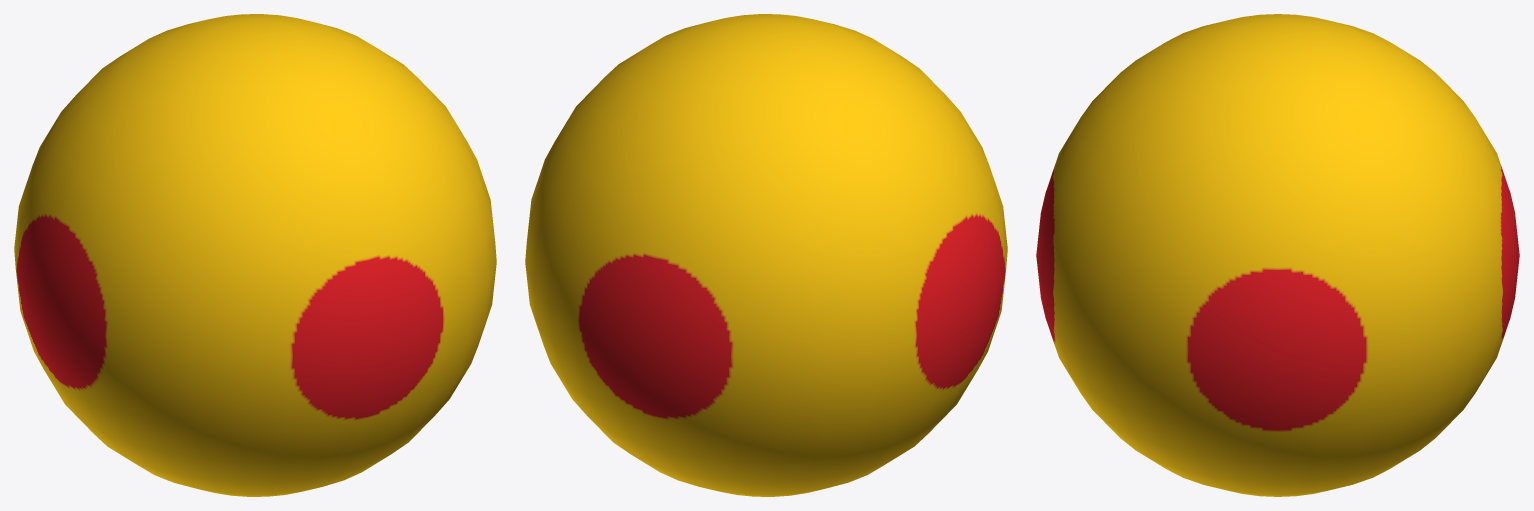
File: YellowBall.obj
3 renders of one model, left to right at view 1: azimuth 30°, elevation 25°; view 2: azimuth 150°, elevation 25°; view 3: azimuth 270°, elevation 25°, orthographic.
Parts seen in each view (by area): view 1: YellowBall_Sphere.002; view 2: YellowBall_Sphere.002; view 3: YellowBall_Sphere.002.
Boxes of the visible parts, <box> form: YellowBall_Sphere.002: <box>14,14,496,496</box>; YellowBall_Sphere.002: <box>525,14,1007,496</box>; YellowBall_Sphere.002: <box>1036,14,1519,496</box>.
Size of the model in its own units: 0.2 by 0.2 by 0.2.
Materials: 1 (1 with a texture image).
